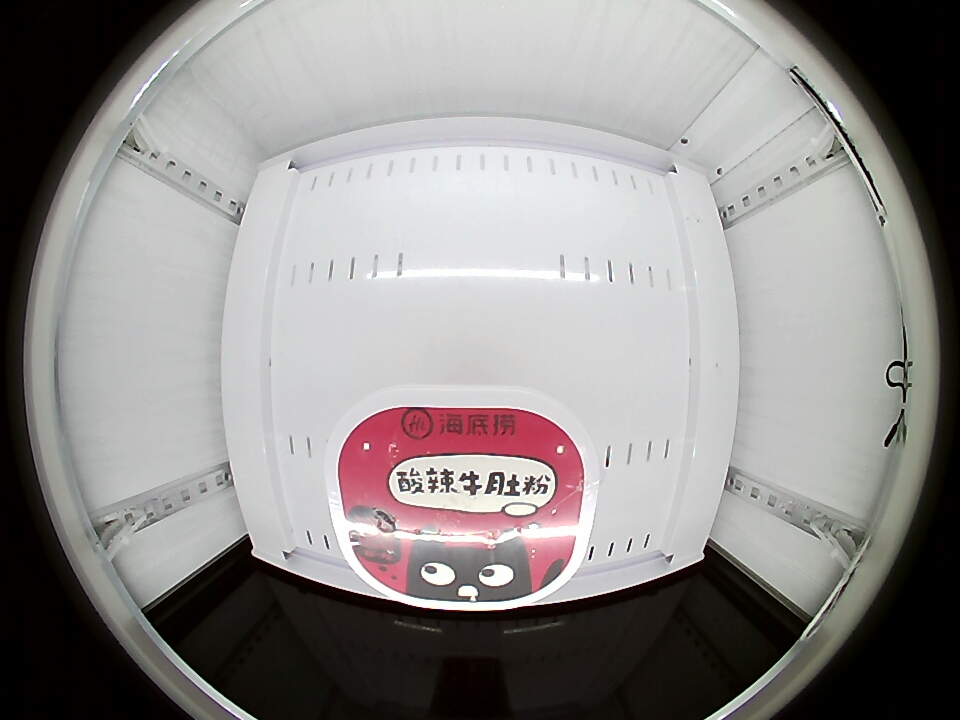niudufen: (329, 392, 598, 608)
